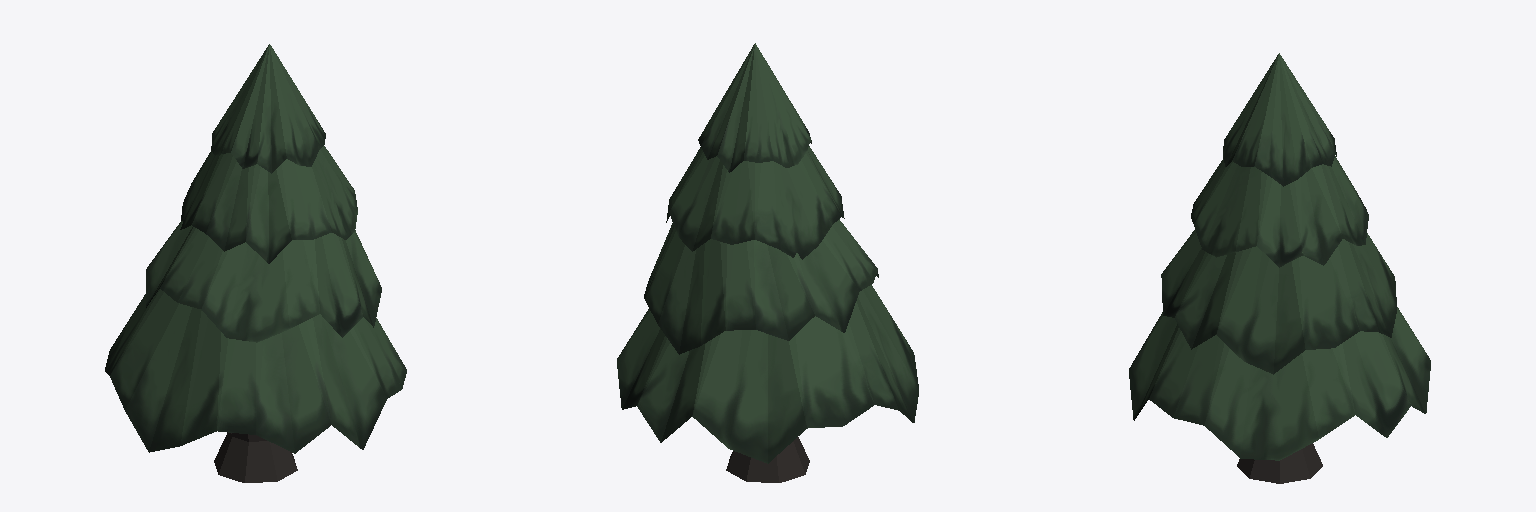
3 renders of one model, left to right at view 1: azimuth 30°, elevation 25°; view 2: azimuth 150°, elevation 25°; view 3: azimuth 270°, elevation 25°, orthographic.
Parts seen in each view (by area): view 1: Circle, Circle.001, Circle.002, Circle.003, Circle.004; view 2: Circle, Circle.001, Circle.002, Circle.003, Circle.004; view 3: Circle, Circle.001, Circle.002, Circle.003, Circle.004.
Boxes of the visible parts, box(x1,y1,x2,y2) form: Circle: box(105, 289, 406, 453); Circle.001: box(146, 221, 381, 342); Circle.002: box(180, 146, 357, 263); Circle.003: box(211, 44, 325, 173); Circle.004: box(214, 432, 297, 482); Circle: box(617, 285, 918, 463); Circle.001: box(644, 219, 878, 354); Circle.002: box(666, 146, 844, 259); Circle.003: box(698, 43, 811, 172); Circle.004: box(726, 437, 809, 482); Circle: box(1129, 307, 1430, 460); Circle.001: box(1161, 230, 1396, 374); Circle.002: box(1191, 156, 1368, 267); Circle.003: box(1223, 53, 1336, 186); Circle.004: box(1237, 443, 1322, 483).
Size of the model in its own units: 2 by 3.06 by 2.
2 materials, 2 textured.